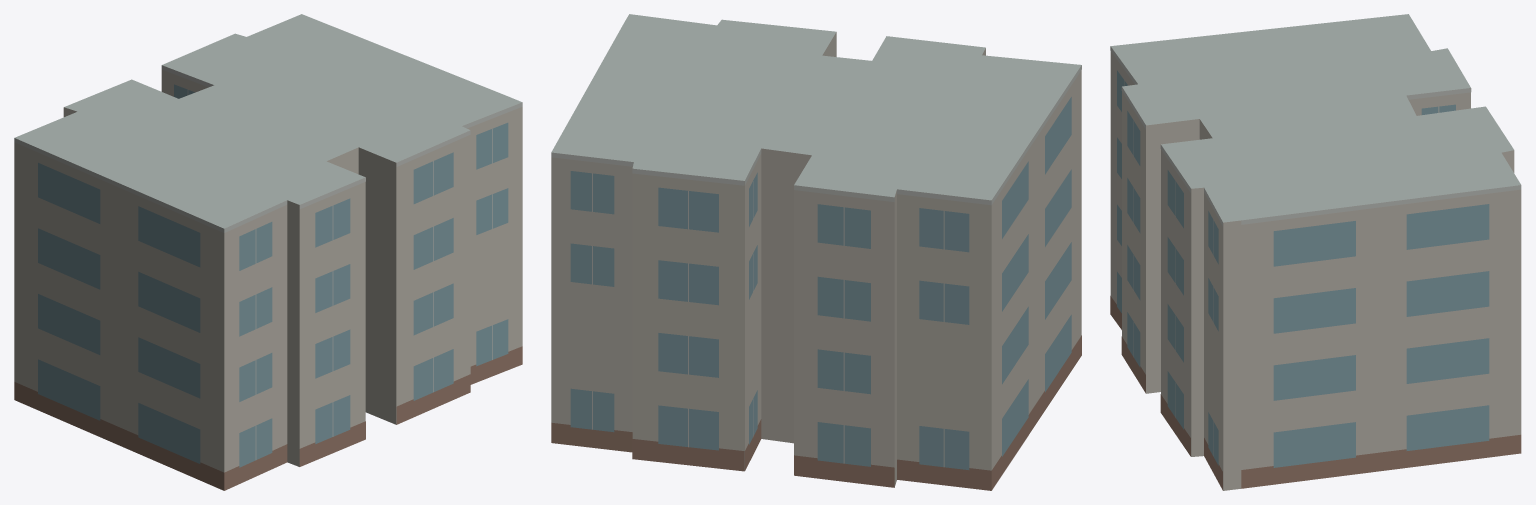
File: survey-upis-32680149.glb
The picture shows the model from 3 angles, left to right: view 1: azimuth 30°, elevation 25°; view 2: azimuth 150°, elevation 25°; view 3: azimuth 270°, elevation 25°; orthographic projection. The views are drawn at different scales.
Visible parts, largest first — view 1: survey-upis-32680149.tmp; view 2: survey-upis-32680149.tmp; view 3: survey-upis-32680149.tmp.
Part boxes in pixels (<box>): survey-upis-32680149.tmp: <box>14,14,522,490</box>; survey-upis-32680149.tmp: <box>551,14,1081,490</box>; survey-upis-32680149.tmp: <box>1110,14,1521,490</box>.
Size of the model in its own units: 24.35 by 14.6 by 20.27.
